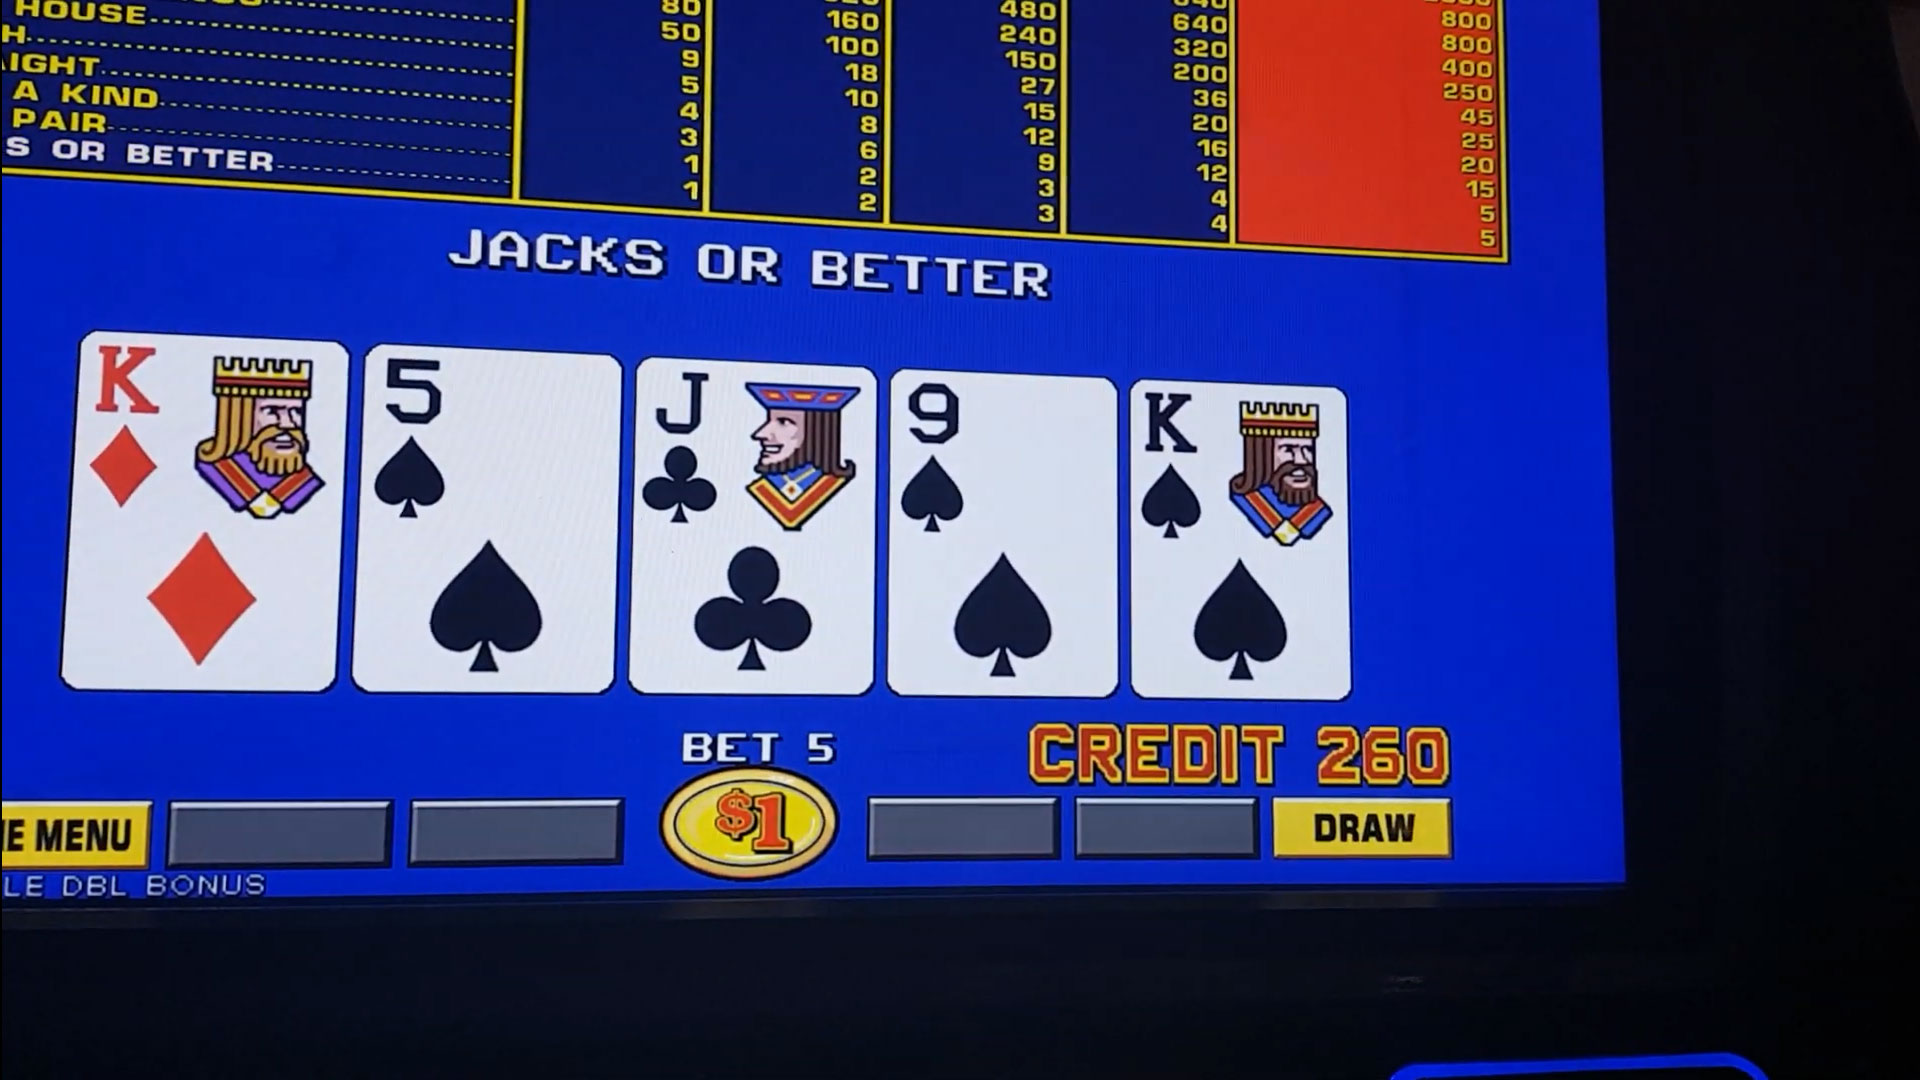CJ: (637, 369, 872, 543)
DK: (83, 345, 342, 517)
S5: (367, 359, 617, 526)
S9: (891, 381, 1116, 541)
SK: (1135, 388, 1345, 546)
